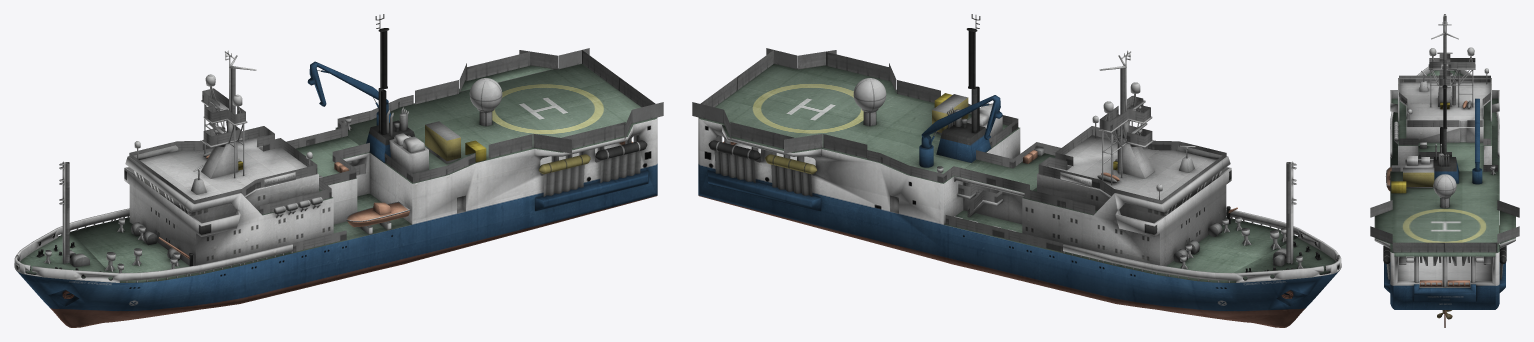
File: OrientExplorer.glb
The picture shows the model from 3 angles, left to right: view 1: azimuth 30°, elevation 25°; view 2: azimuth 150°, elevation 25°; view 3: azimuth 270°, elevation 25°; orthographic projection. The views are drawn at different scales.
Parts seen in each view (by area): view 1: Orient_Explorer_Hull_01, Masts_01; view 2: Orient_Explorer_Hull_01, Masts_01; view 3: Orient_Explorer_Hull_01, Masts_01.
Boxes of the visible parts, <box> form: Orient_Explorer_Hull_01: <box>14,14,663,327</box>; Masts_01: <box>134,50,502,179</box>; Orient_Explorer_Hull_01: <box>692,14,1341,327</box>; Masts_01: <box>853,50,1195,199</box>; Orient_Explorer_Hull_01: <box>1370,14,1519,327</box>; Masts_01: <box>1407,21,1488,208</box>.
Size of the model in its own units: 24.79 by 9.39 by 7.4.
1 material, 1 textured.
